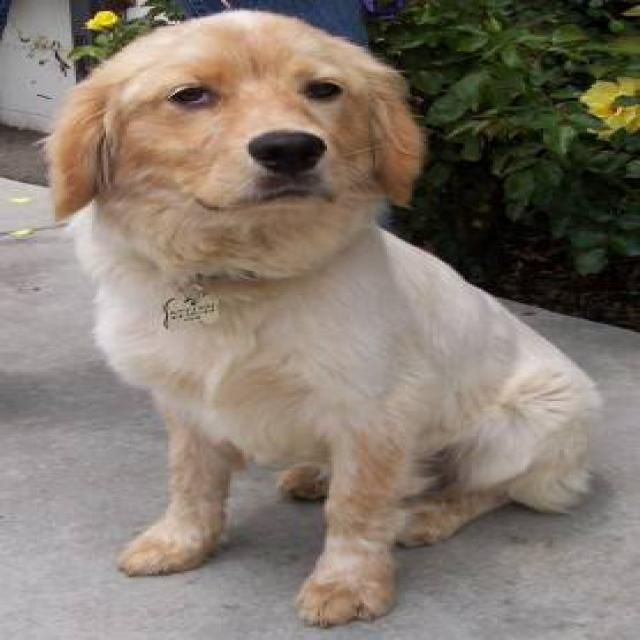dog: (37, 6, 603, 629)
